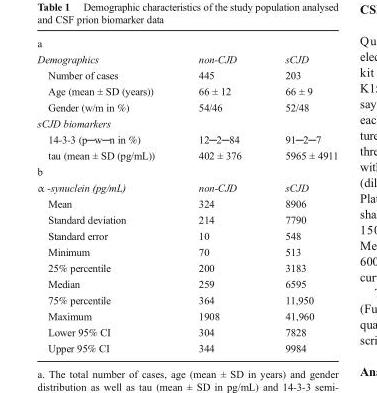table: (36, 36, 337, 353)
table column: (36, 36, 175, 353), (175, 36, 262, 353), (262, 36, 337, 353)
table projected row header: (36, 114, 337, 130), (36, 163, 337, 178), (36, 36, 337, 50)
table row: (36, 130, 337, 147), (36, 178, 337, 195), (36, 50, 337, 66), (36, 66, 337, 82), (36, 82, 337, 98), (36, 98, 337, 114), (36, 114, 337, 130), (36, 147, 337, 163), (36, 195, 337, 211), (36, 211, 337, 227), (36, 227, 337, 243), (36, 243, 337, 259), (36, 259, 337, 275), (36, 275, 337, 291), (36, 291, 337, 307), (36, 307, 337, 323), (36, 323, 337, 339), (36, 163, 337, 178), (36, 36, 337, 50), (36, 339, 337, 353)
